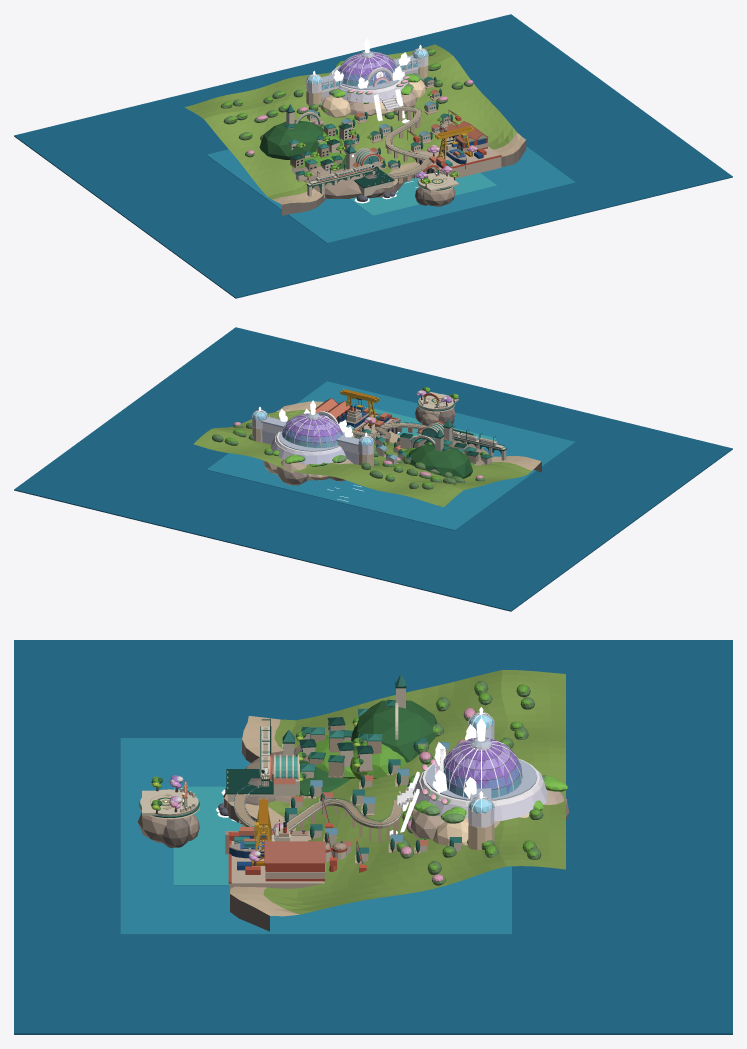
Rendered from 晴湾圣所全景.glb.
The picture shows the model from 3 angles, top to bottom: view 1: azimuth 30°, elevation 25°; view 2: azimuth 150°, elevation 25°; view 3: azimuth 270°, elevation 25°; orthographic projection. The views are drawn at different scales.
Parts seen in each view (by area): view 1: Panorama_Solid, Glasshouse_Stone, Glasshouse_Glow; view 2: Panorama_Solid, Glasshouse_Stone; view 3: Panorama_Solid, Glasshouse_Stone, Glasshouse_Glow.
Boxes of the visible parts, bbox=[...] form: Panorama_Solid: bbox=[14, 14, 732, 298]; Glasshouse_Stone: bbox=[306, 48, 428, 117]; Glasshouse_Glow: bbox=[313, 38, 421, 123]; Panorama_Solid: bbox=[14, 327, 732, 611]; Glasshouse_Stone: bbox=[252, 409, 374, 485]; Panorama_Solid: bbox=[14, 640, 732, 1034]; Glasshouse_Stone: bbox=[397, 712, 569, 849]; Glasshouse_Glow: bbox=[389, 707, 485, 835].
Bounding box in the file's own units: 440 × 78.12 × 340.
